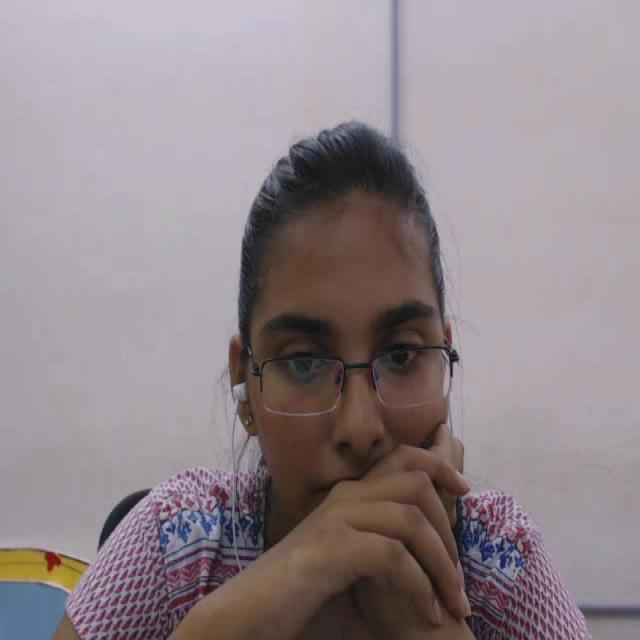Bored: (189, 80, 513, 611)
